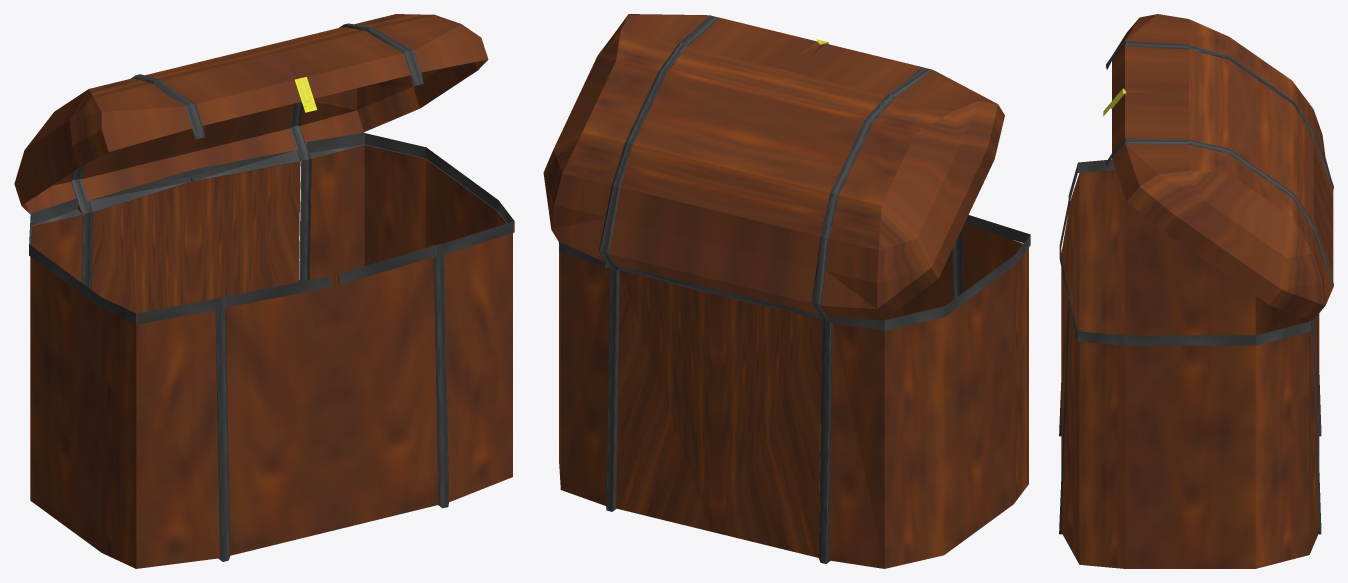
The model's file is chest_open.obj.
3 views of the same model, side by side, from view 1: azimuth 30°, elevation 25°; view 2: azimuth 150°, elevation 25°; view 3: azimuth 270°, elevation 25° (orthographic). The views are drawn at different scales.
Visible parts, largest first — view 1: Chest; view 2: Chest; view 3: Chest.
Boxes of the visible parts, <box> form: Chest: <box>14,14,514,568</box>; Chest: <box>543,14,1030,568</box>; Chest: <box>1059,14,1333,568</box>.
Size of the model in its own units: 3.26 by 3.36 by 2.13.
